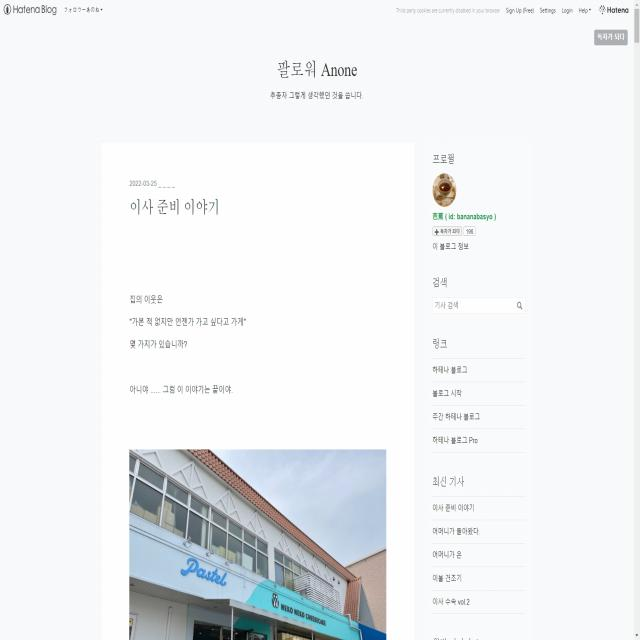menu-bar: (504, 2, 593, 19)
search: (428, 273, 528, 316)
side-panel: (427, 334, 529, 639)
